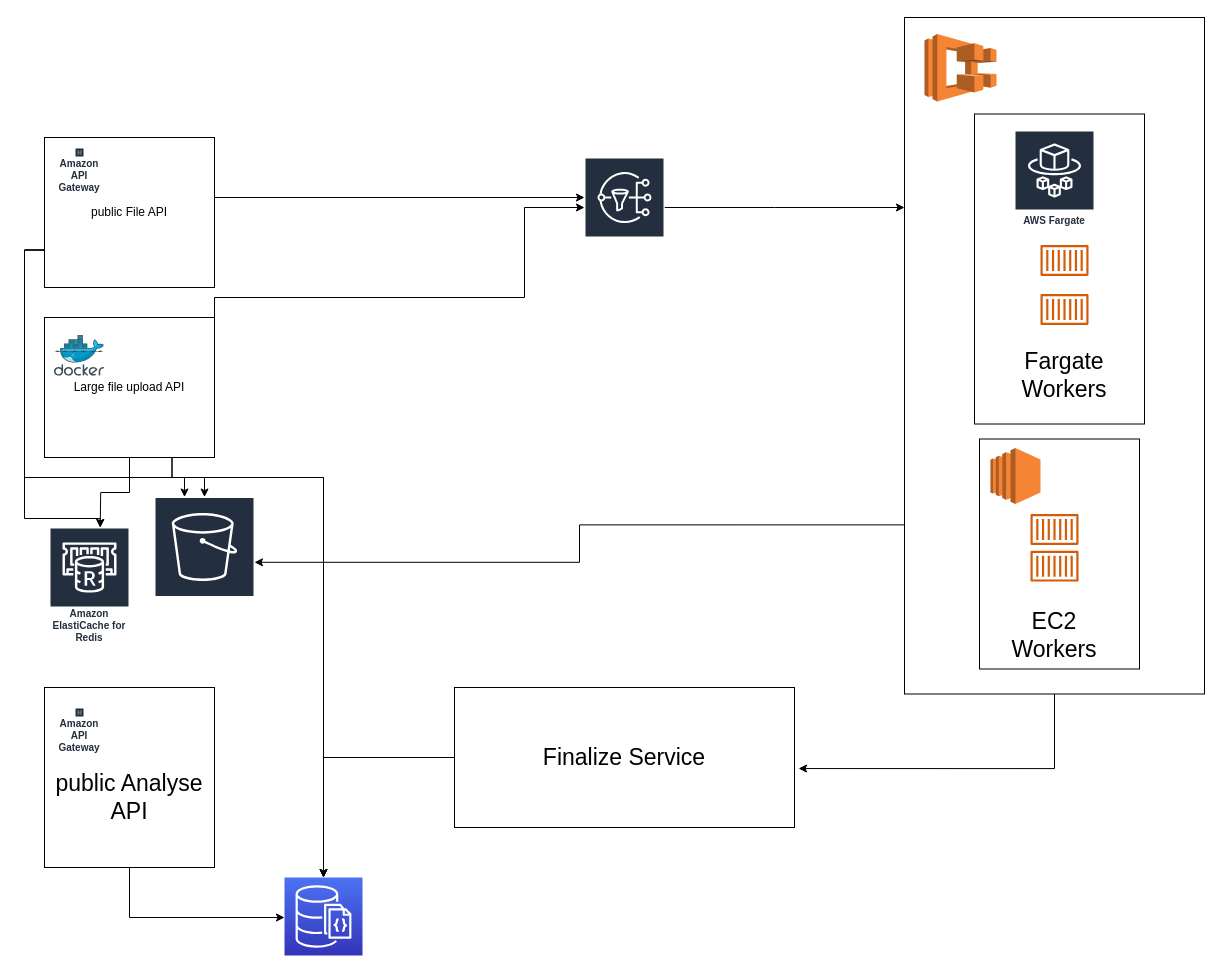
The diagram is 1222 pixels wide and 973 high, and some of its shapes have lost their labels. Here are the shapes that lost their labels. From the top down, the box of each, then its label:
(584, 156, 664, 258): Amazon SNS
(154, 496, 254, 628): Amazon S3
